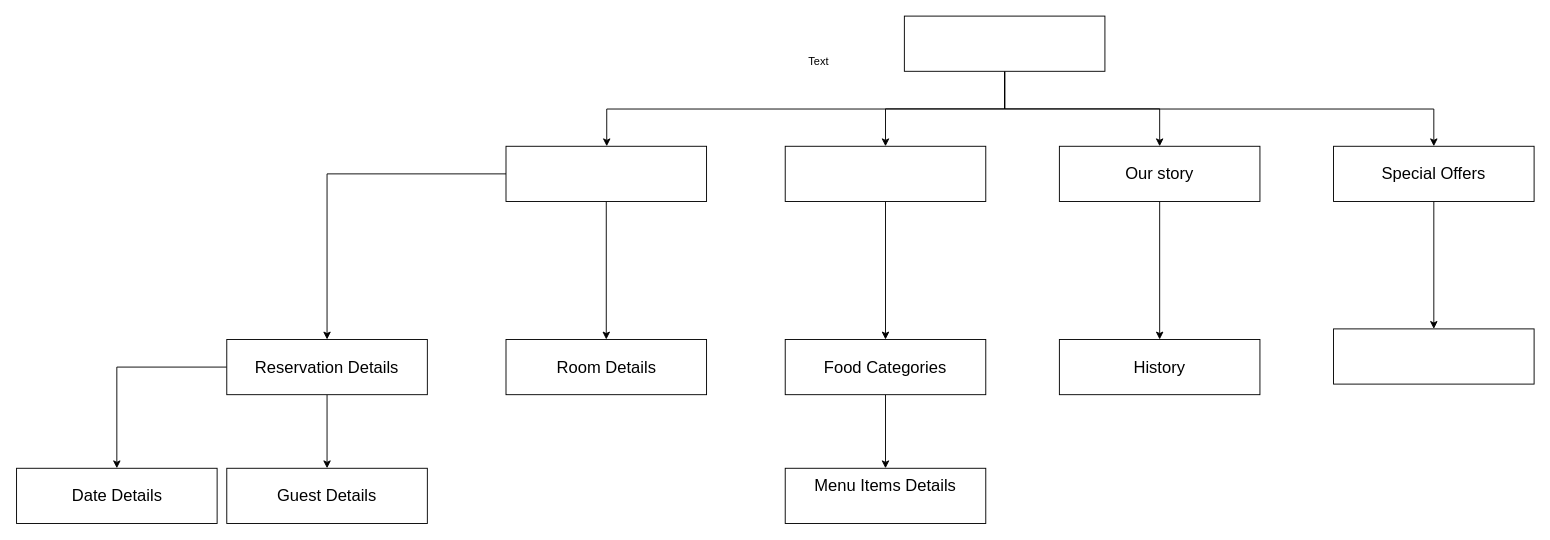
The diagram is 1550 pixels wide and 540 high, and some of its shapes have lost their labels. The box of each missing label's shape, as (x1, y1, x2, y2) in pixels:
20% Discount offer: (1333, 328, 1534, 384)
Bookings: (505, 145, 707, 201)
Homepage: (903, 15, 1105, 71)
Menu: (784, 145, 986, 201)
